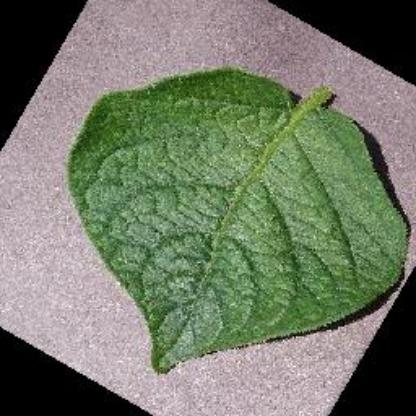Healthy-plant: (65, 65, 412, 373)
